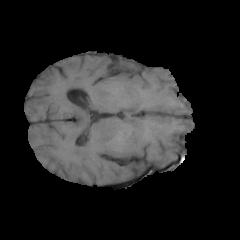glioma: (58, 56, 147, 119)
